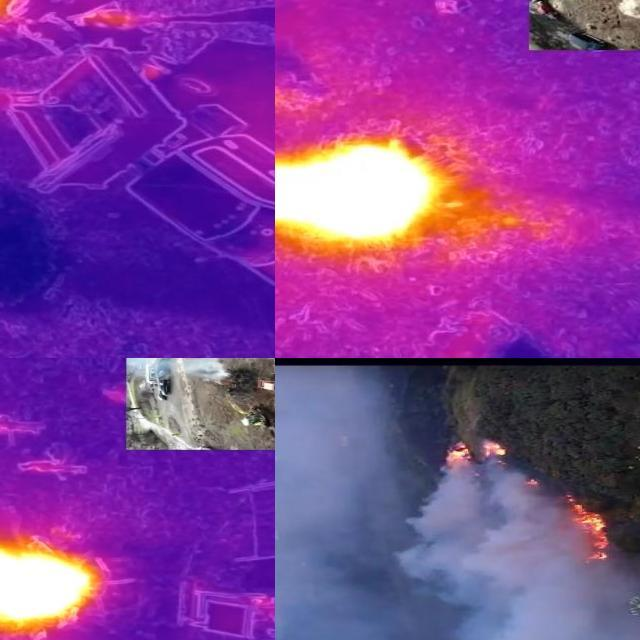fire: (276, 141, 445, 247), (1, 535, 99, 629)
